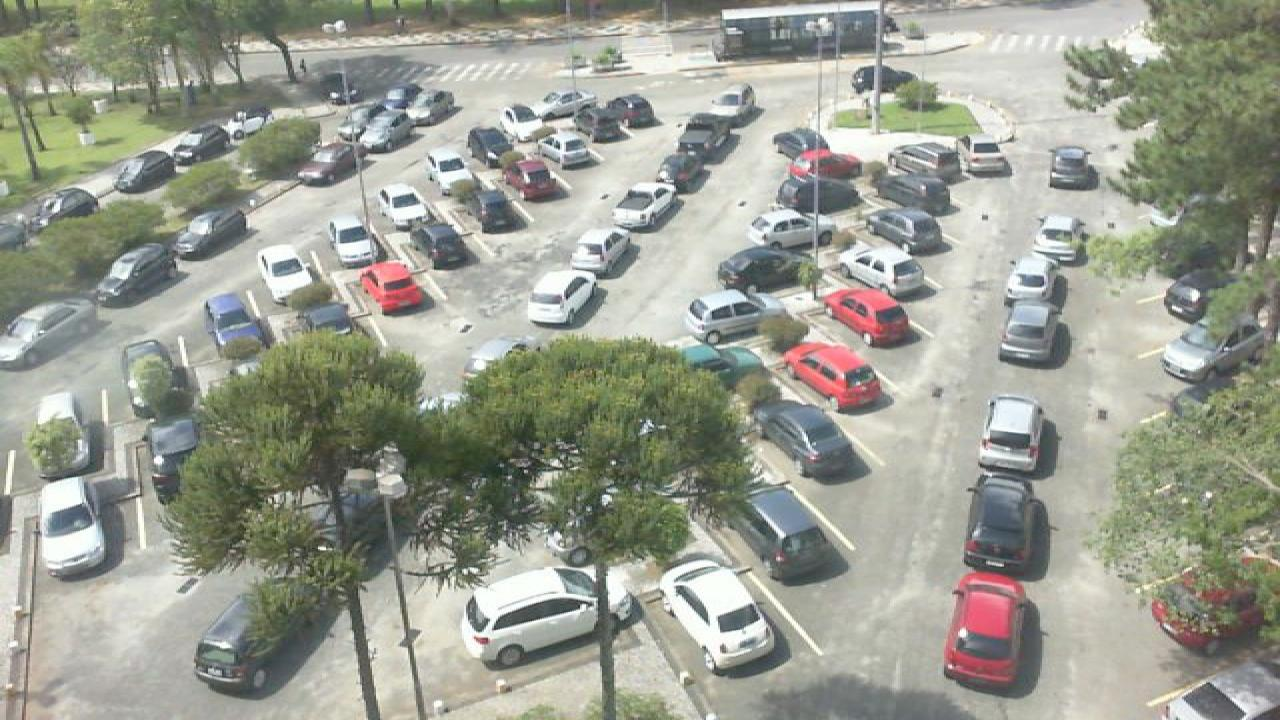Car: (456, 565, 636, 667), (654, 557, 778, 675), (942, 571, 1036, 693), (190, 592, 288, 698), (740, 484, 838, 579), (960, 474, 1046, 574), (752, 398, 860, 476), (38, 474, 110, 576), (780, 341, 888, 409), (0, 298, 98, 370), (26, 389, 94, 478), (1160, 322, 1254, 384), (822, 284, 912, 346), (974, 393, 1046, 470), (686, 288, 778, 344), (838, 245, 926, 299), (98, 243, 174, 305), (146, 416, 200, 500), (714, 243, 802, 294), (994, 300, 1064, 364), (526, 269, 600, 326), (120, 337, 178, 409), (174, 209, 250, 261), (746, 207, 840, 249), (864, 207, 948, 254), (678, 343, 766, 387), (356, 260, 426, 314), (460, 336, 540, 382), (568, 226, 638, 276), (202, 289, 264, 345), (610, 181, 678, 231), (874, 172, 954, 214), (682, 112, 756, 156), (776, 175, 856, 215), (258, 243, 314, 299), (1162, 268, 1222, 320), (28, 187, 98, 231), (1006, 253, 1060, 308), (890, 141, 968, 179), (296, 138, 356, 186), (462, 186, 524, 232), (352, 106, 414, 152), (406, 220, 464, 269), (654, 146, 710, 195), (108, 152, 174, 192), (1036, 214, 1090, 261), (504, 155, 558, 199), (958, 135, 1014, 177), (784, 150, 862, 180), (168, 134, 228, 172), (328, 220, 376, 266), (378, 182, 428, 226), (402, 86, 456, 126), (540, 132, 598, 168), (772, 126, 832, 160), (850, 66, 916, 96), (422, 149, 470, 190), (466, 125, 514, 166), (220, 106, 274, 142), (1048, 145, 1094, 187), (572, 99, 622, 137), (604, 94, 658, 128), (534, 89, 600, 116), (708, 83, 758, 118), (498, 104, 546, 138)
